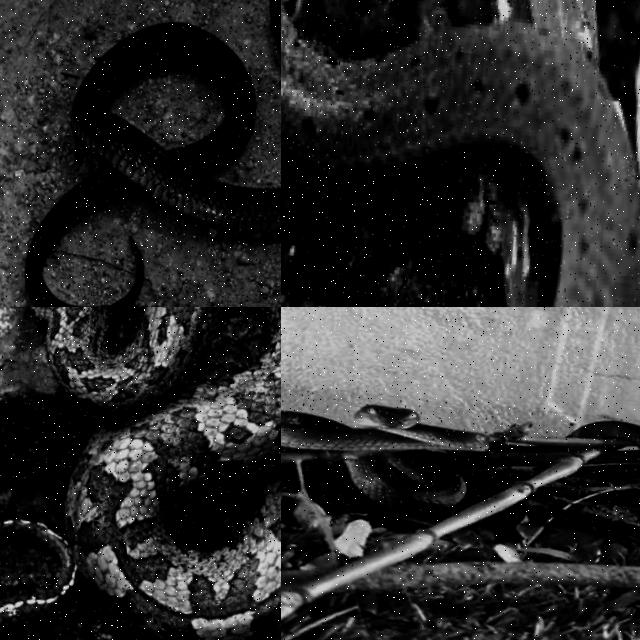Calliophis maculiceps: (281, 0, 639, 306)
Naja siamensis: (26, 23, 280, 306)
Ovophis monticola: (0, 307, 280, 639)
Trimeresurus macrops: (281, 406, 492, 515)
snake: (281, 0, 639, 306), (0, 307, 280, 639), (26, 23, 280, 306), (281, 406, 492, 515)
